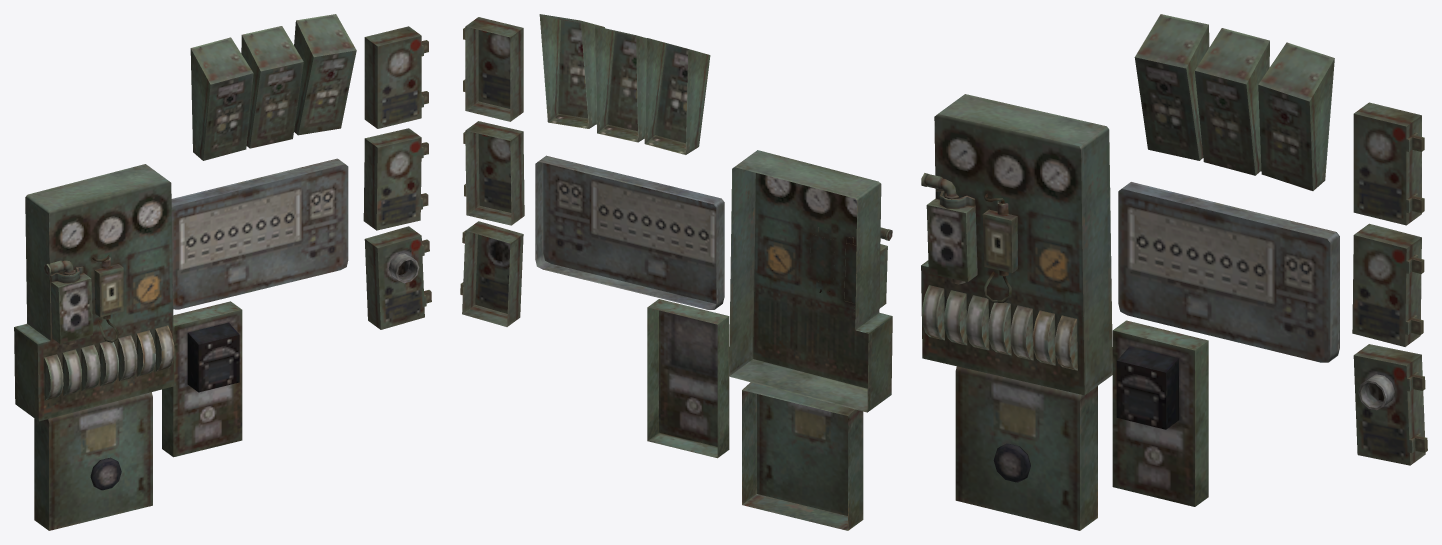
Rendered from sm22_012_switchboard02a.fbx.
3 renders of one model, left to right at view 1: azimuth 30°, elevation 25°; view 2: azimuth 150°, elevation 25°; view 3: azimuth 330°, elevation 25°, orthographic. The views are drawn at different scales.
Visible parts, largest first — view 1: LOD_1_Group_0_Sub_1__sm22_012_Switchboard02A_A_Mat, LOD_1_Group_1_Sub_1__sm22_012_Switchboard02A_A_Mat; view 2: LOD_1_Group_0_Sub_1__sm22_012_Switchboard02A_A_Mat, LOD_1_Group_1_Sub_1__sm22_012_Switchboard02A_A_Mat; view 3: LOD_1_Group_0_Sub_1__sm22_012_Switchboard02A_A_Mat, LOD_1_Group_1_Sub_1__sm22_012_Switchboard02A_A_Mat.
Boxes of the visible parts, bbox=[...] form: LOD_1_Group_0_Sub_1__sm22_012_Switchboard02A_A_Mat: bbox=[14, 14, 431, 530]; LOD_1_Group_1_Sub_1__sm22_012_Switchboard02A_A_Mat: bbox=[44, 254, 239, 490]; LOD_1_Group_0_Sub_1__sm22_012_Switchboard02A_A_Mat: bbox=[460, 14, 892, 530]; LOD_1_Group_1_Sub_1__sm22_012_Switchboard02A_A_Mat: bbox=[810, 227, 892, 309]; LOD_1_Group_0_Sub_1__sm22_012_Switchboard02A_A_Mat: bbox=[921, 14, 1427, 530]; LOD_1_Group_1_Sub_1__sm22_012_Switchboard02A_A_Mat: bbox=[921, 173, 1178, 482].
Size of the model in its own units: 1.82 by 1.86 by 0.2457.
